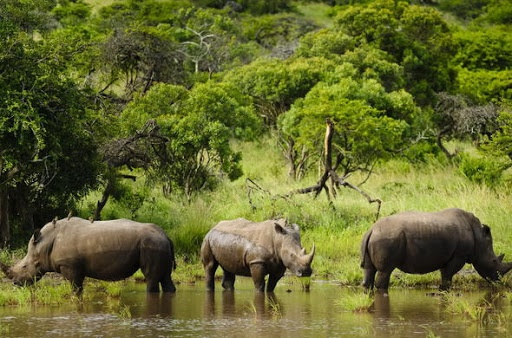rhino: (1, 214, 179, 308), (357, 205, 509, 302), (198, 216, 315, 305)
